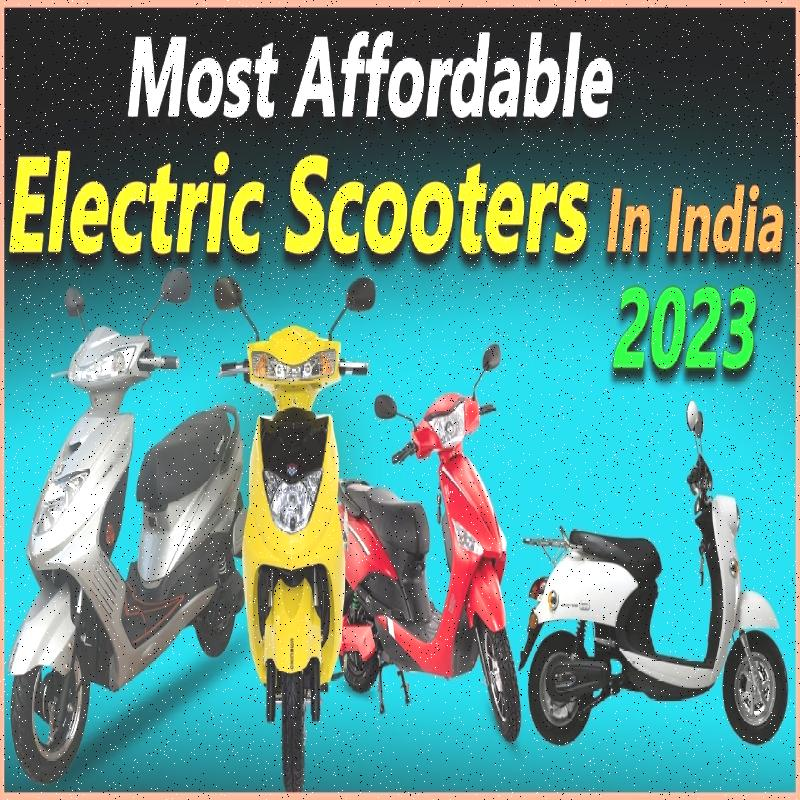bike: (15, 266, 256, 794), (520, 403, 790, 758), (330, 327, 536, 760), (216, 237, 372, 793)
